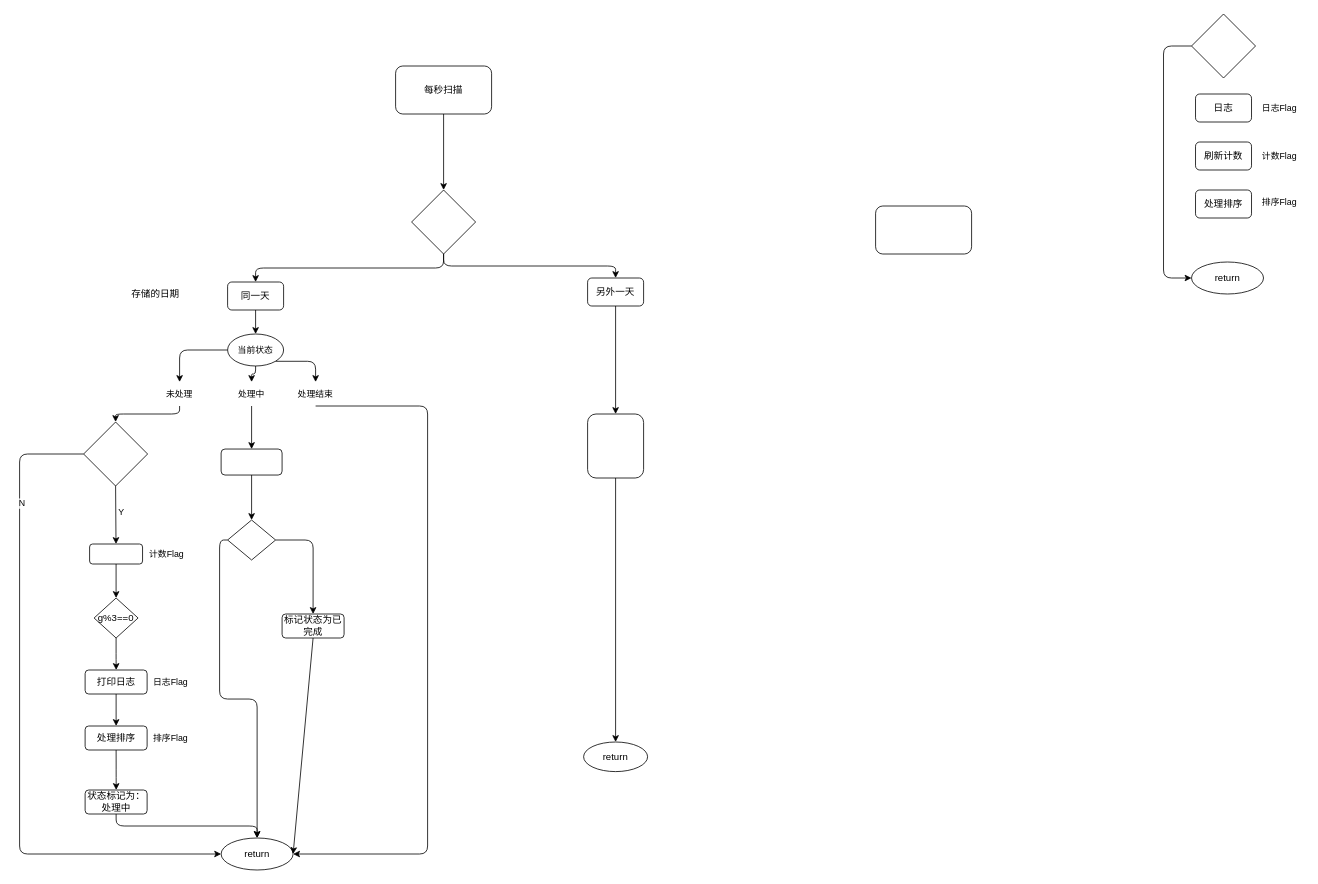
Image size: 1318x884. Some labels were removed from this diagram. Each missing label, with the centre of its shape:
刷新计数器: the point at 116,553
将日期存储 所有完成的标志置为 未完成 g_curDay++；: the point at 615,445
当前时间为 一点半吗: the point at 115,453
所有都处理完了吗: the point at 1223,45
排序结束了吗: the point at 251,539
接着处理一千条: the point at 923,229
继续进行排序: the point at 251,461
获取日期与存储的相等吗: the point at 443,221
